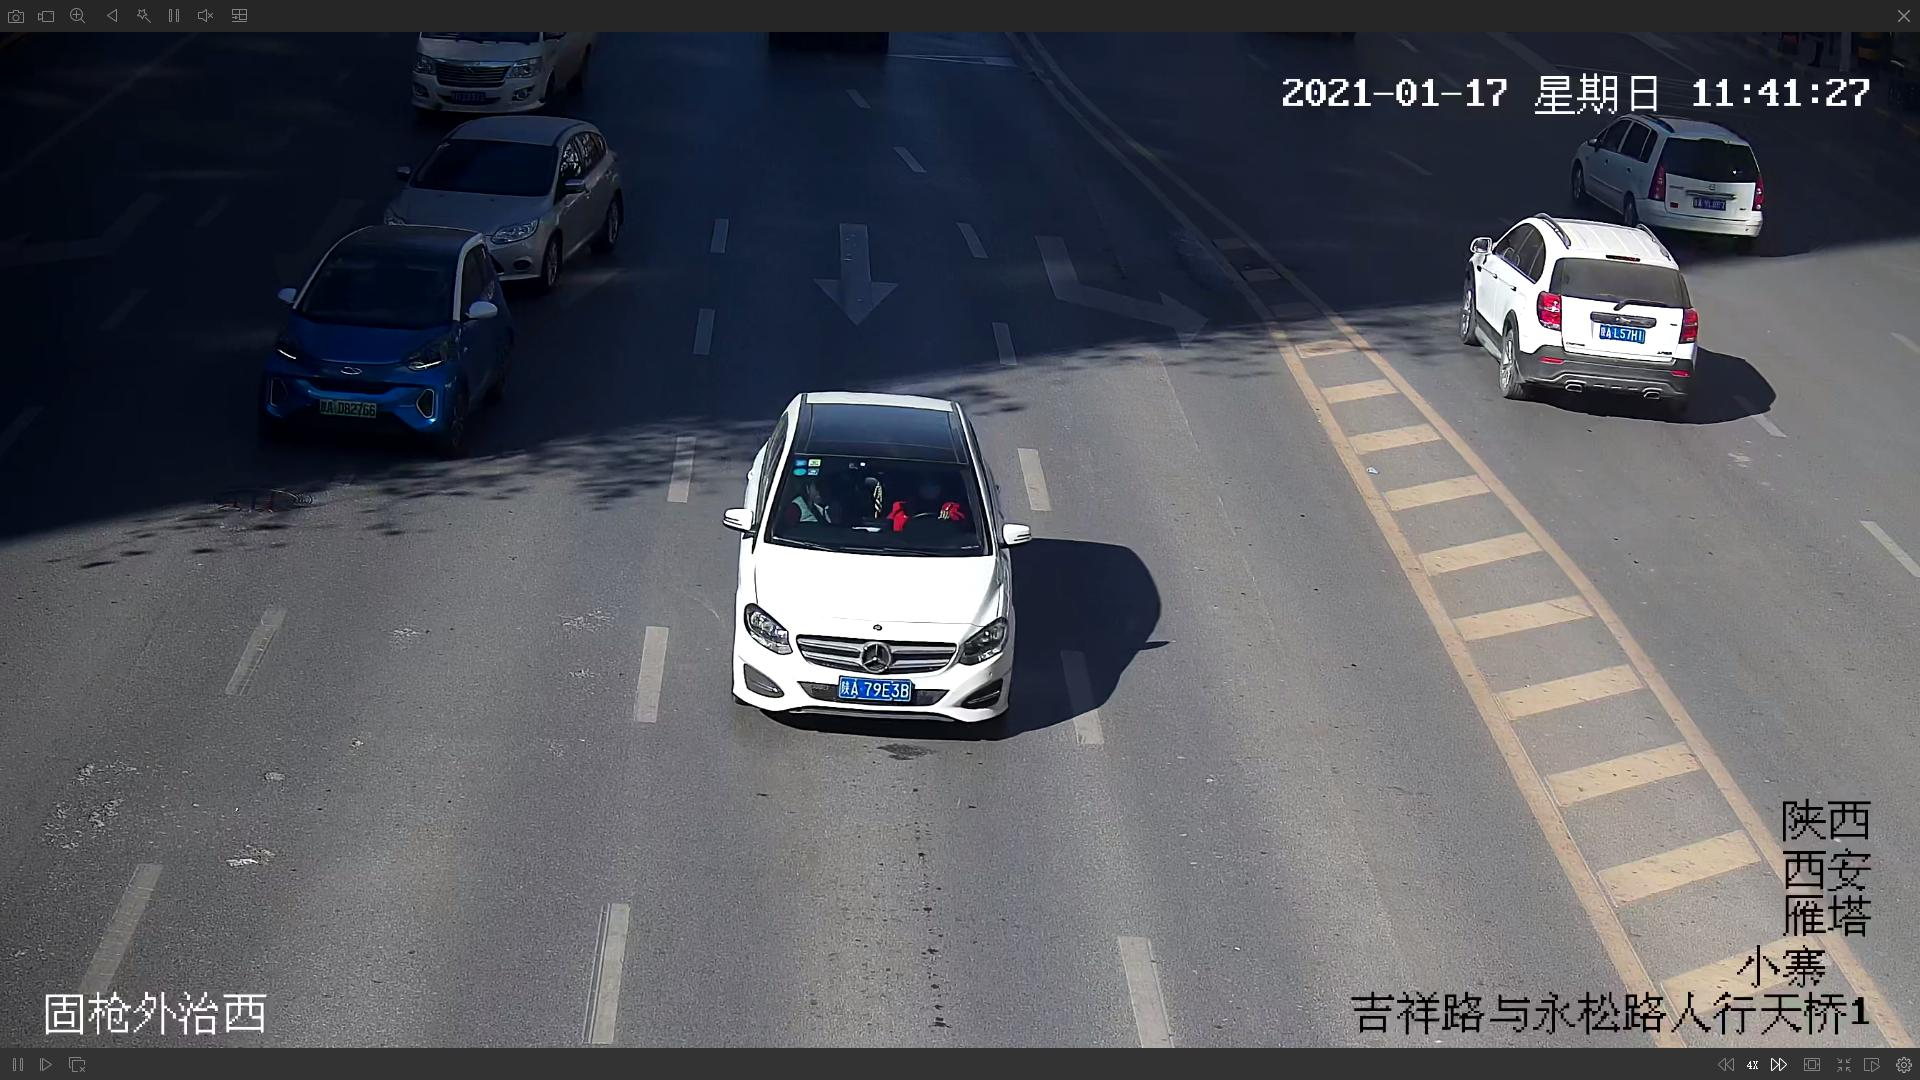blue: (268, 225, 502, 454)
white: (717, 386, 1029, 727)
